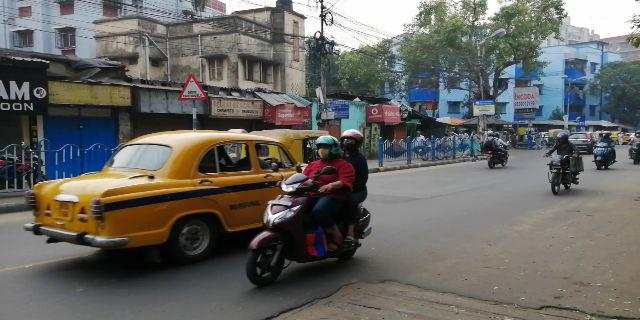Car: (25, 129, 338, 259)
Motorbike: (245, 133, 370, 282), (543, 132, 581, 194), (478, 129, 509, 169), (586, 132, 617, 172)
